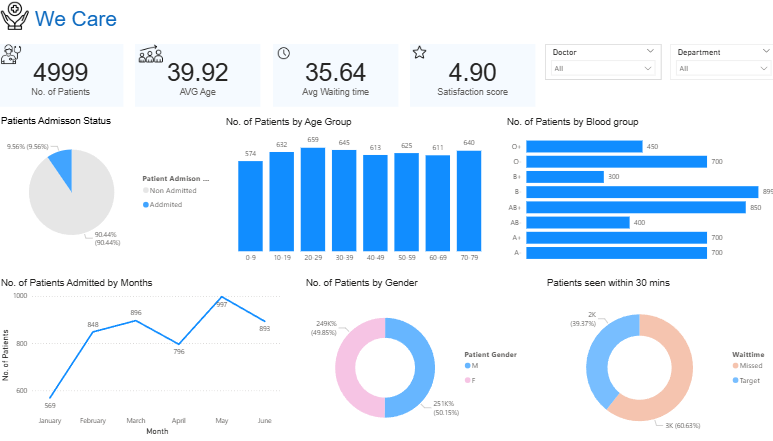

The dashboard page shown, as its layout file describes it:
{"tool":"powerbi","page":{"name":"Page 1","canvas":[1400,800],"ordinal":0},"visuals":[{"type":"textbox","box":[60.8,9.1,2239.7,60.8],"z":0},{"type":"card","fields":{"Values":["Table2.No of Patients"]},"box":[0,80,224,112],"z":1000},{"type":"card","fields":{"Values":["Table2.AVG Age"]},"box":[245.3,80,224,112],"z":2000},{"type":"card","fields":{"Values":["Table2.satisfaction score"]},"box":[736,80,224,112],"z":3000},{"type":"card","fields":{"Values":["Table2.Avg Waiting time"]},"box":[490.7,80,224,112],"z":4000},{"type":"shape","box":[0,294.9,313.9,163.3],"z":5000},{"type":"pieChart","title":"Patients Admisson Status","fields":{"Category":["Table2.Patient Admison flag"],"Y":["Divide(Table2.No. of Patients, ScopedEval(Table2.No. of Patients, []))"]},"box":[0,208,384,256],"z":6000},{"type":"clusteredColumnChart","fields":{"Category":["Table2.Age Group"],"Y":["Table2.No. of Patients"]},"box":[401.6,208.1,489.4,271.5],"z":7000},{"type":"clusteredBarChart","fields":{"Y":["Table2.No. of Patients"],"Category":["Table2.Blood group"]},"box":[904.1,208.1,487.8,271.5],"z":8000},{"type":"slicer","fields":{"Values":["Table2.Doctor"]},"box":[976,80,208,64],"z":9000},{"type":"lineChart","title":"No. of Patients  Admitted by Months","fields":{"Category":["Table2.Admission_DateTime.1.Variation.Date Hierarchy.Month"],"Y":["Table2.No. of Patients"]},"box":[0,496,512,288],"z":10000},{"type":"slicer","fields":{"Values":["Table2.Department"]},"box":[1200,80,192,64],"z":11000},{"type":"donutChart","title":"No. of Patients by Gender","fields":{"Y":["Table2.No. of Patients"],"Category":["Table2.Patient Gender"]},"box":[544.7,495.9,403.3,304.1],"z":12000},{"type":"donutChart","title":"Patients seen within 30 mins","fields":{"Category":["Table2.Waittime"],"Y":["Table2.No. of Patients"]},"box":[975.6,495.9,416.3,304.1],"z":13000},{"type":"image","box":[0,72.5,46.6,50.5],"z":14000},{"type":"image","box":[245.8,59.5,53,76.3],"z":15000},{"type":"image","box":[494.3,80.2,31.1,32.3],"z":16000},{"type":"image","box":[736.2,76.3,33.6,36.2],"z":17000},{"type":"image","box":[0,0,60.8,59.5],"z":18000}]}

Visuals, with their boxes in screenshot pixels (x1, y1, x2, y2), scaled from the page's 1400x800 canvas onto the 773x441 screenshot:
textbox: bbox=(34, 5, 772, 39)
card - Table2.No of Patients: bbox=(0, 44, 124, 106)
card - Table2.AVG Age: bbox=(135, 44, 259, 106)
card - Table2.satisfaction score: bbox=(406, 44, 530, 106)
card - Table2.Avg Waiting time: bbox=(271, 44, 395, 106)
shape: bbox=(0, 163, 173, 253)
"Patients Admisson Status" pieChart: bbox=(0, 115, 212, 256)
clusteredColumnChart - Table2.Age Group x Table2.No. of Patients: bbox=(222, 115, 492, 264)
clusteredBarChart - Table2.No. of Patients x Table2.Blood group: bbox=(499, 115, 769, 264)
slicer - Table2.Doctor: bbox=(539, 44, 654, 79)
"No. of Patients  Admitted by Months" lineChart: bbox=(0, 273, 283, 432)
slicer - Table2.Department: bbox=(663, 44, 769, 79)
"No. of Patients by Gender" donutChart: bbox=(301, 273, 523, 440)
"Patients seen within 30 mins" donutChart: bbox=(539, 273, 769, 440)
image: bbox=(0, 40, 26, 68)
image: bbox=(136, 33, 165, 75)
image: bbox=(273, 44, 290, 62)
image: bbox=(406, 42, 425, 62)
image: bbox=(0, 0, 34, 33)
